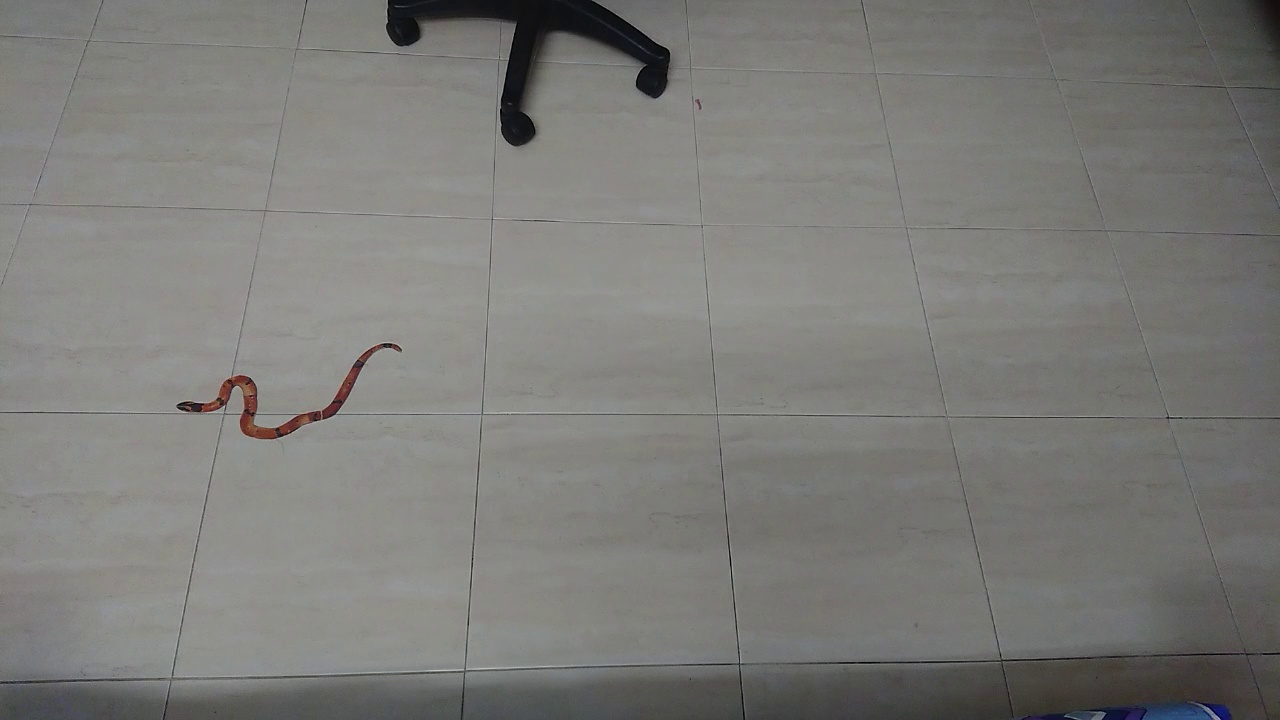snake: (155, 323, 427, 454)
